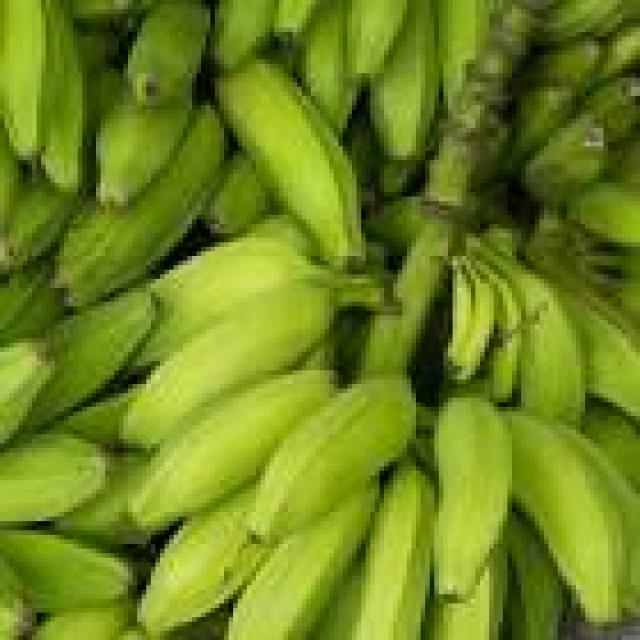banana: (124, 279, 338, 447), (55, 106, 223, 306), (128, 371, 333, 530), (220, 60, 365, 265), (247, 375, 415, 539), (508, 412, 626, 621), (229, 485, 379, 639), (138, 238, 319, 365), (138, 490, 269, 635), (480, 247, 585, 425), (28, 288, 155, 425), (435, 398, 511, 598), (357, 215, 452, 374), (352, 462, 434, 639), (563, 430, 639, 617), (96, 92, 191, 210), (371, 0, 438, 164), (0, 531, 132, 612), (0, 435, 105, 525), (567, 293, 639, 420), (124, 0, 210, 105), (42, 0, 86, 191), (55, 453, 146, 543), (0, 0, 50, 159), (522, 115, 607, 205), (430, 544, 507, 639), (302, 0, 356, 132), (508, 517, 566, 639), (476, 261, 525, 402), (435, 0, 498, 109), (0, 183, 77, 269), (202, 151, 274, 237), (448, 261, 498, 383), (508, 83, 575, 169), (0, 261, 63, 347), (51, 384, 137, 447), (0, 343, 54, 443), (567, 179, 639, 246), (348, 0, 406, 82), (586, 403, 639, 489), (211, 0, 278, 68), (581, 74, 639, 146), (526, 37, 603, 91), (32, 599, 132, 639), (316, 558, 361, 639), (444, 256, 475, 370), (247, 211, 319, 260), (540, 0, 626, 41), (366, 197, 425, 255), (343, 110, 379, 205), (78, 28, 118, 105), (87, 64, 127, 137), (0, 558, 36, 639), (599, 23, 639, 82), (0, 124, 22, 228), (275, 0, 324, 41), (380, 160, 425, 201), (69, 0, 141, 22), (608, 138, 639, 187), (618, 279, 639, 315), (119, 627, 150, 639)
